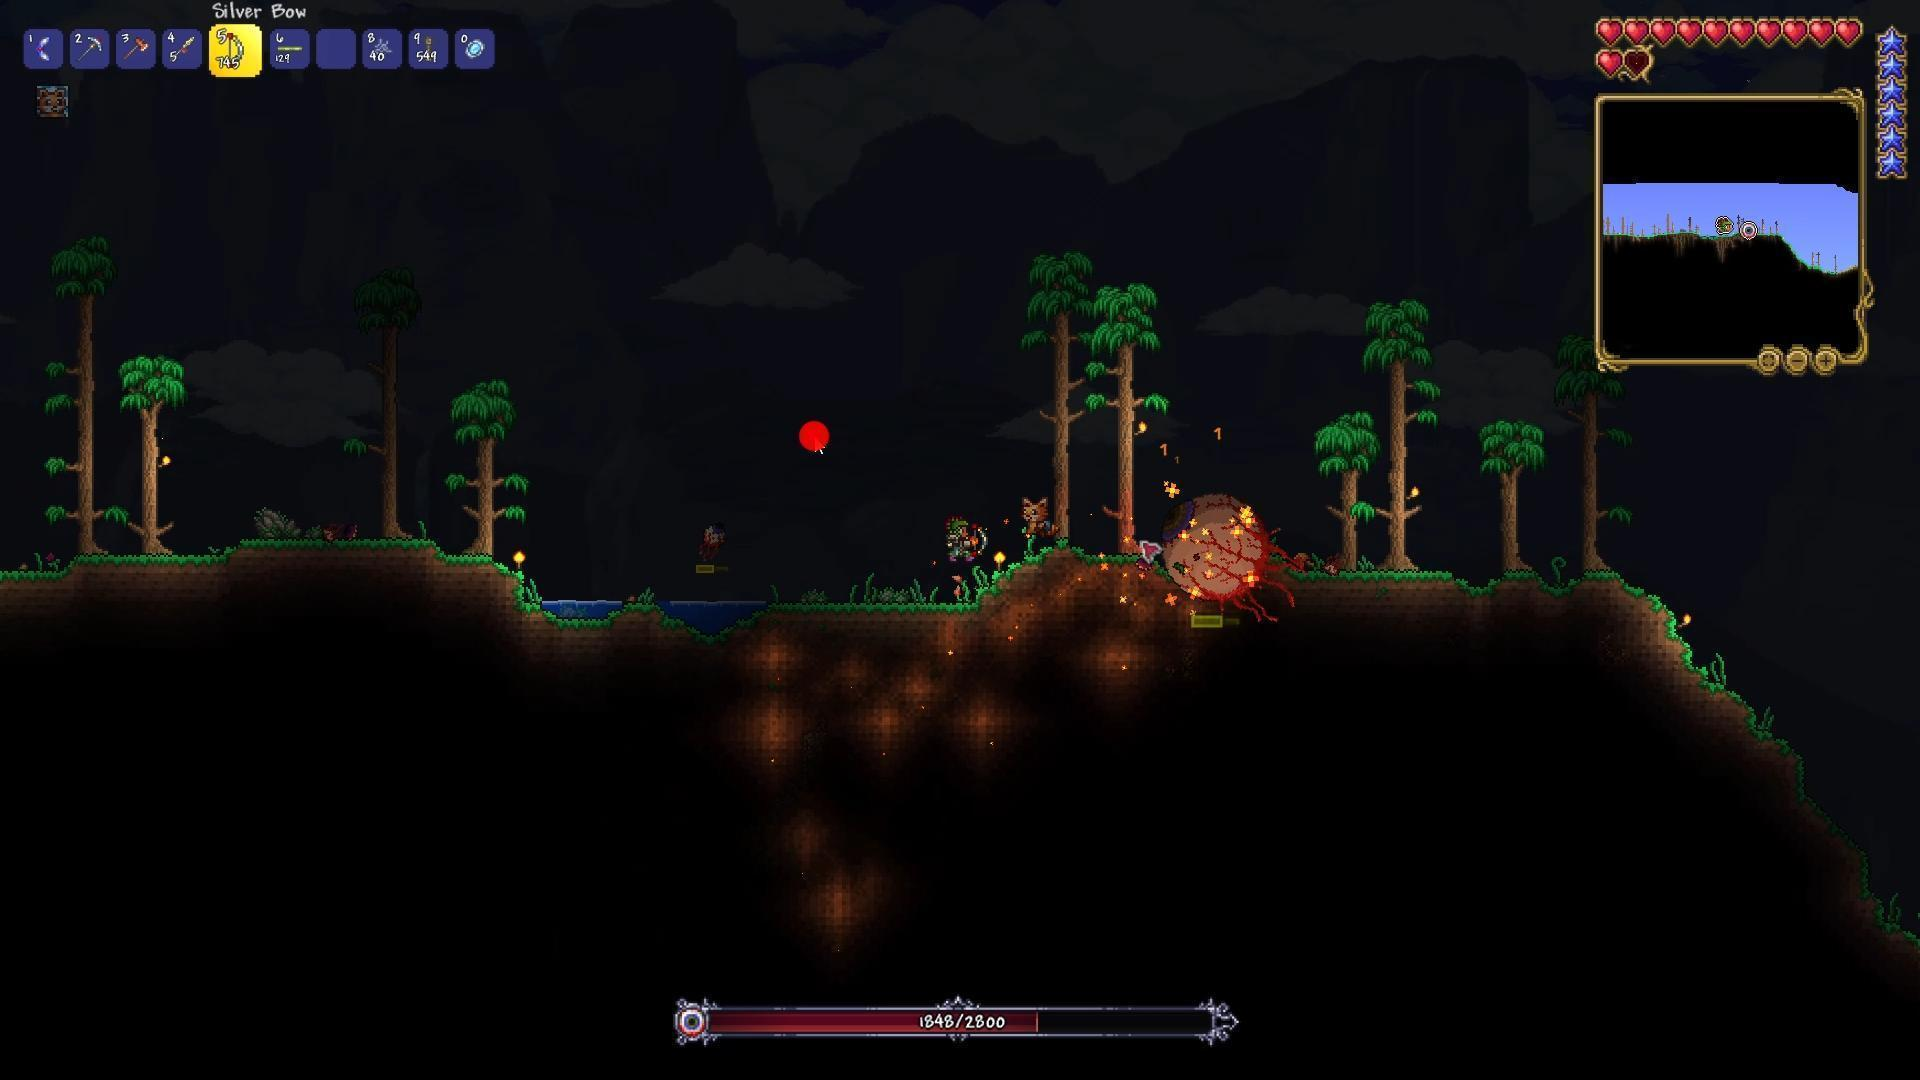axe: (121, 36, 152, 61)
cobwebI: (373, 38, 393, 63)
eye: (1147, 487, 1309, 633), (687, 506, 732, 592)
